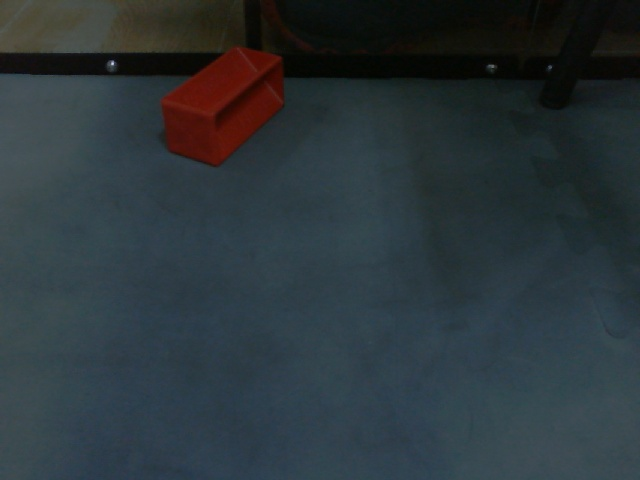RedSample: (157, 45, 287, 170)
